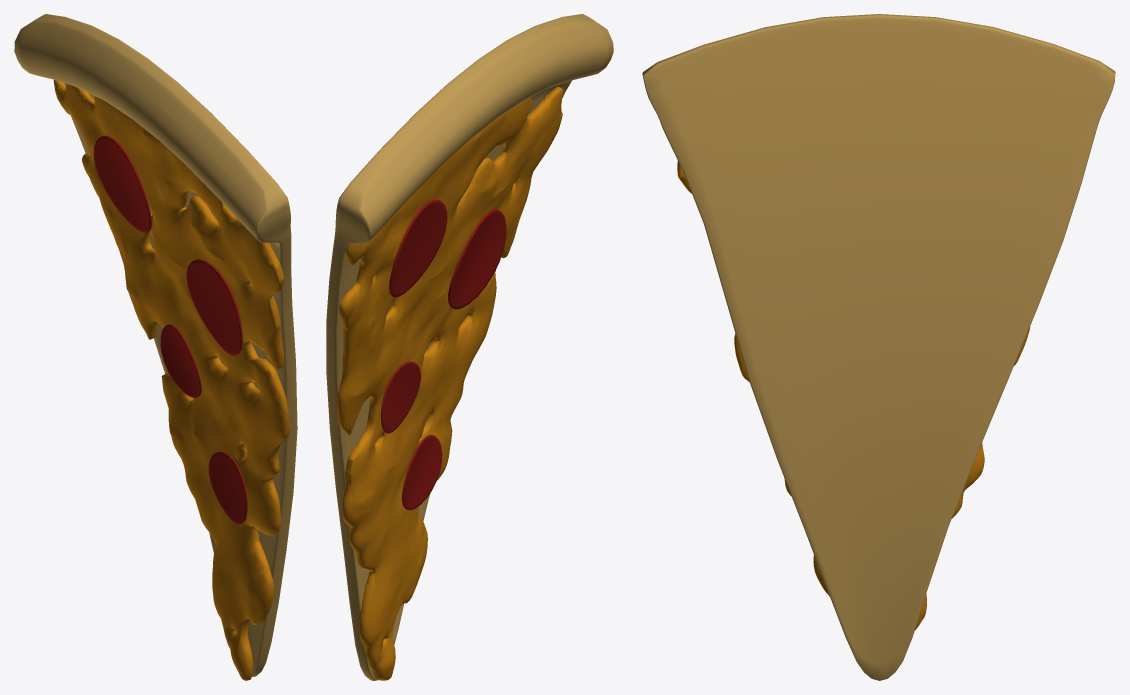
The model's file is Pizza_store_brand.FBX.
3 renders of one model, left to right at view 1: azimuth 30°, elevation 25°; view 2: azimuth 150°, elevation 25°; view 3: azimuth 270°, elevation 25°, orthographic. The views are drawn at different scales.
Visible parts, largest first — view 1: ciasto; view 2: ciasto; view 3: ciasto.
Boxes of the visible parts, x1=… form: ciasto: x1=14, y1=14, x2=297, y2=680; ciasto: x1=326, y1=14, x2=613, y2=680; ciasto: x1=642, y1=14, x2=1115, y2=680.
Size of the model in its own units: 41.51 by 192 by 133.
